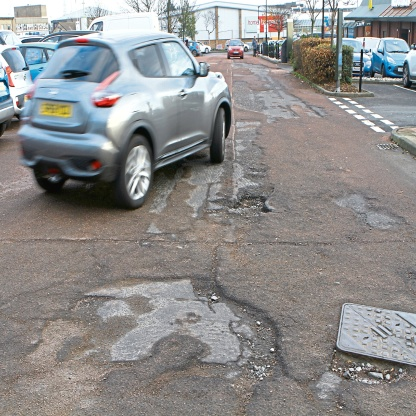pothole: (71, 265, 302, 404), (213, 185, 282, 223)
